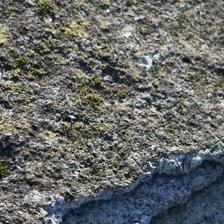Crack: (60, 156, 221, 222)
